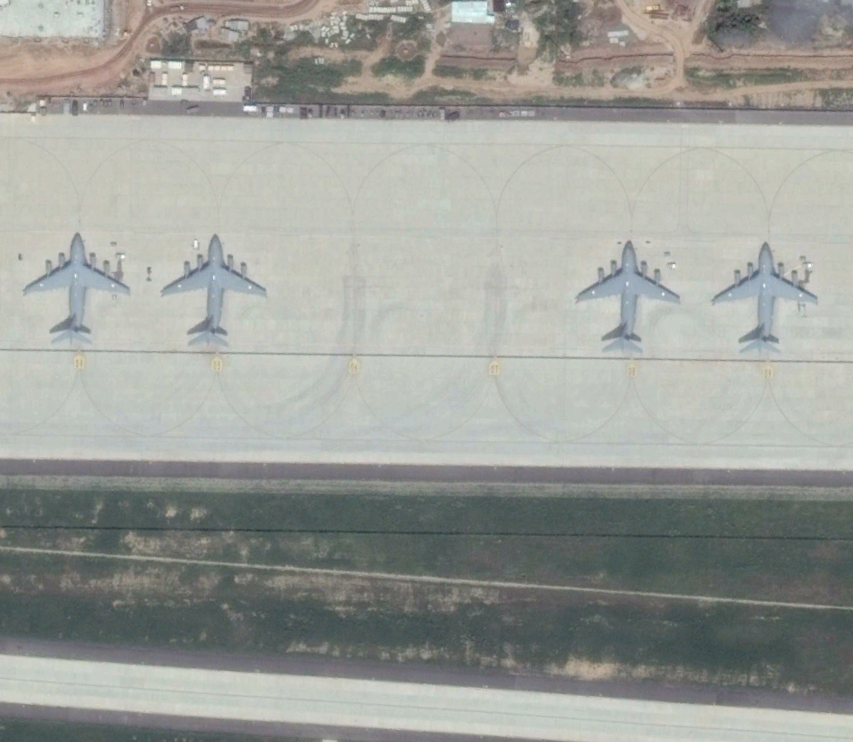A3: (14, 226, 135, 359), (150, 224, 271, 357), (566, 227, 687, 360), (704, 229, 825, 362)
